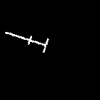double_crochet: (5, 32, 48, 51)
